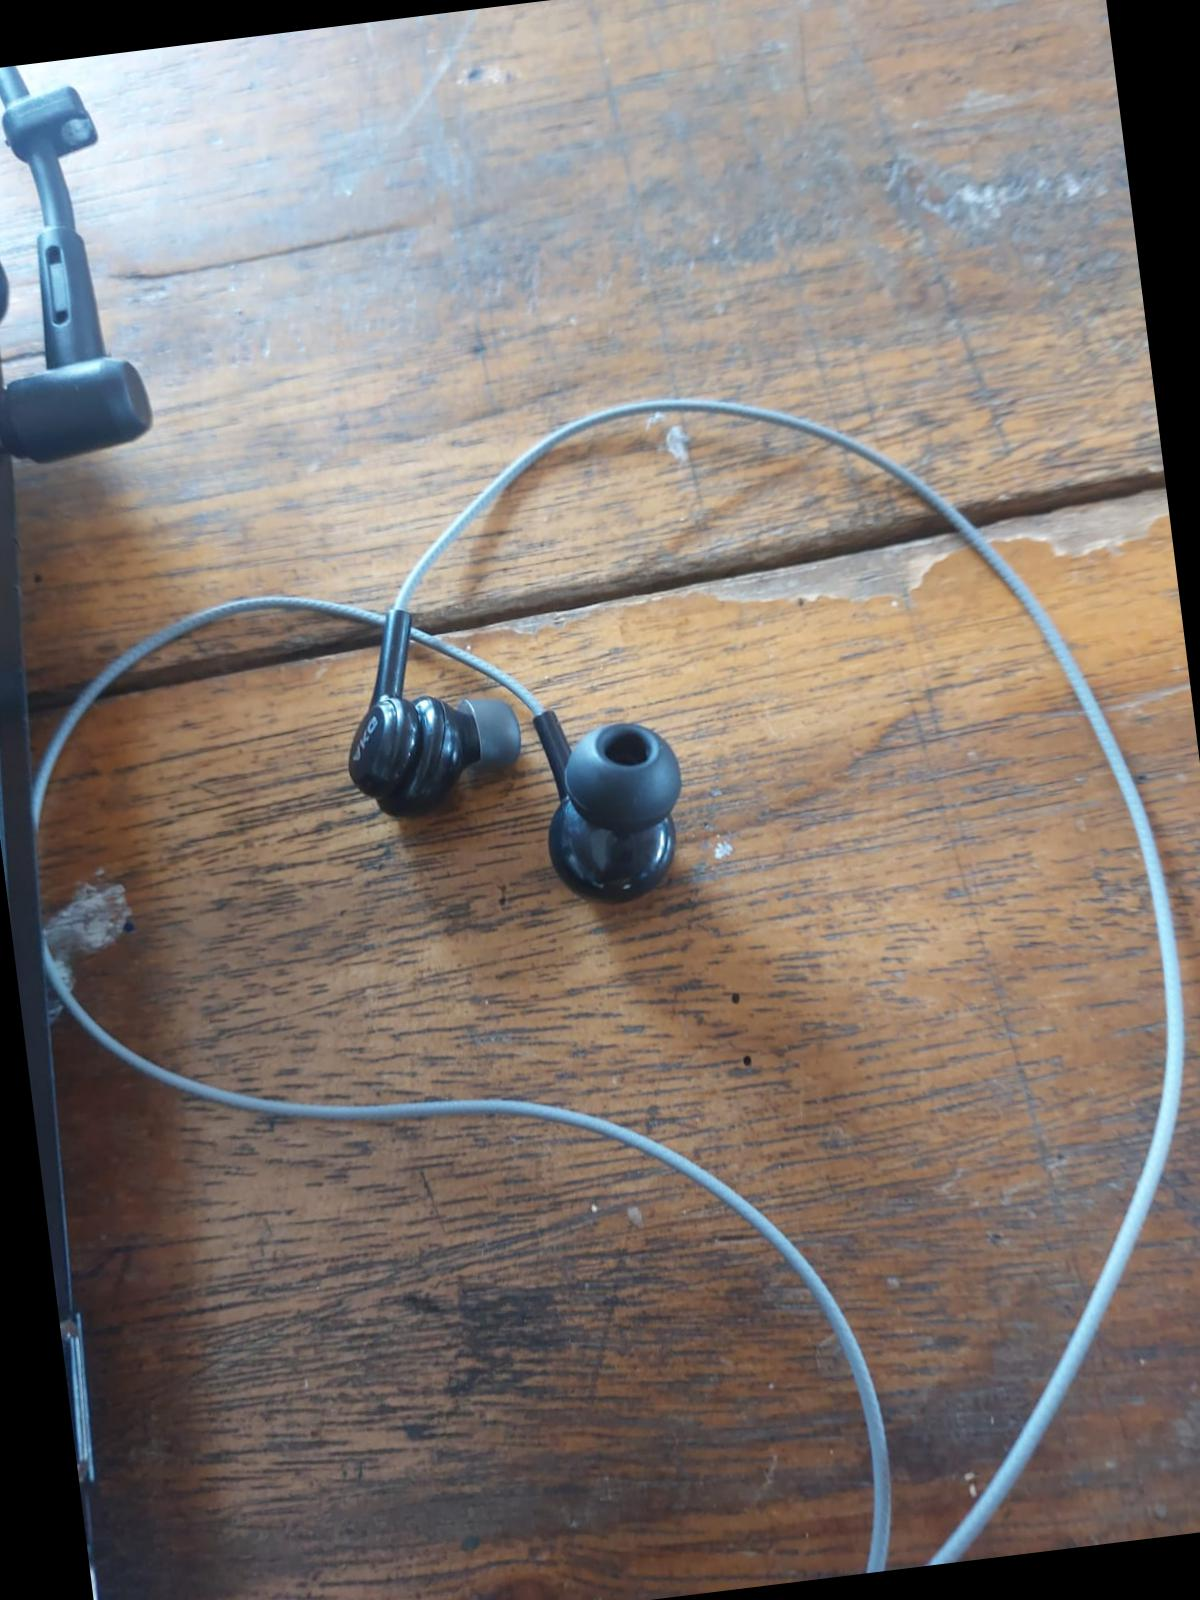Earphone: (320, 566, 556, 877), (498, 663, 726, 929)
